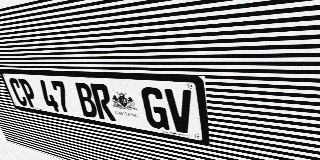4: (37, 80, 60, 112)
7: (50, 81, 74, 114)
B: (73, 82, 99, 119)
C: (8, 78, 29, 107)
G: (140, 87, 170, 131)
P: (18, 78, 40, 108)
R: (90, 83, 116, 121)
V: (164, 88, 195, 135)
